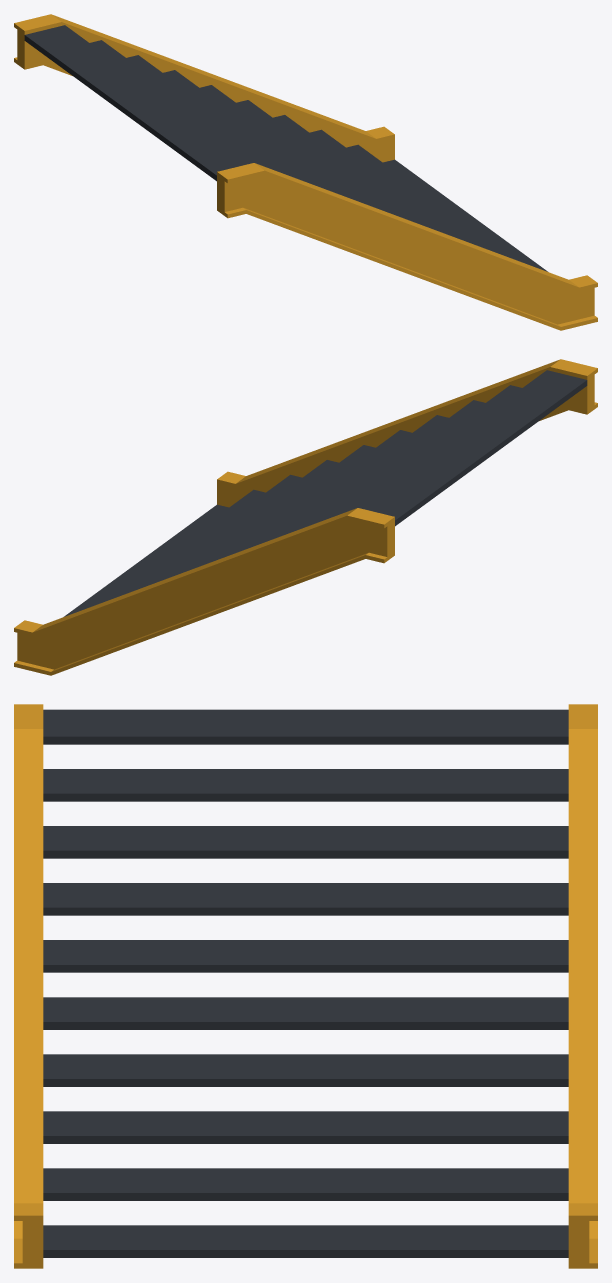
File: Catwalk_2x2_Stairs_1m.fbx
The picture shows the model from 3 angles, top to bottom: view 1: azimuth 30°, elevation 25°; view 2: azimuth 150°, elevation 25°; view 3: azimuth 270°, elevation 25°; orthographic projection. The views are drawn at different scales.
Visible parts, largest first — view 1: Catwalk_2x2_Stairs_1m; view 2: Catwalk_2x2_Stairs_1m; view 3: Catwalk_2x2_Stairs_1m.
Part boxes in pixels (x1,y1,x2,y2): Catwalk_2x2_Stairs_1m: [14, 14, 597, 330]; Catwalk_2x2_Stairs_1m: [14, 359, 597, 675]; Catwalk_2x2_Stairs_1m: [14, 704, 597, 1268].
Size of the model in its own units: 200 by 120 by 200.
